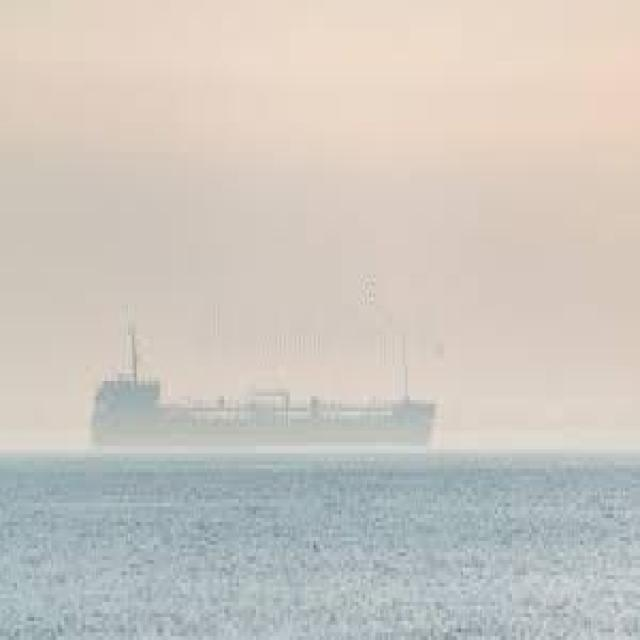cargoship: (88, 319, 439, 461)
